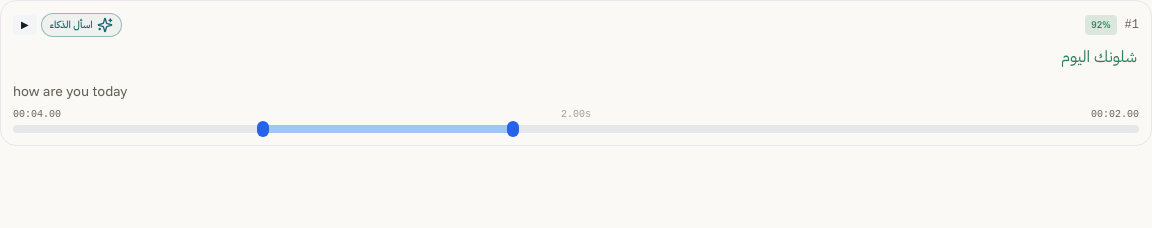
Test: editing the Arabic › opens on a click and starts from what is there
This screenshot has width=1152, height=228.
Click the button "شلونك" at (1116, 56), box [1092,46,1139,66]
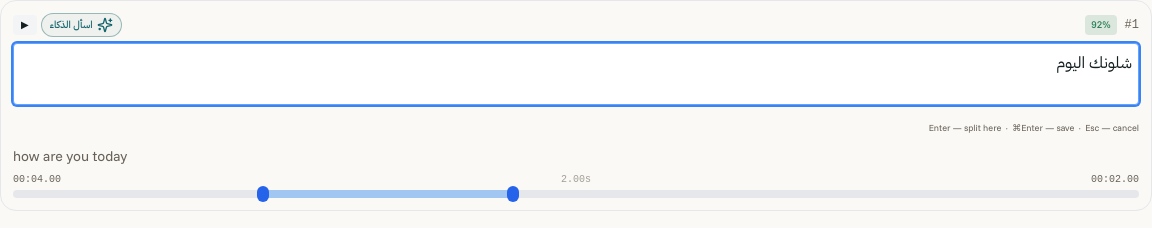
Expected: the text box holds "شلونك اليوم", [13,43,1139,105]
